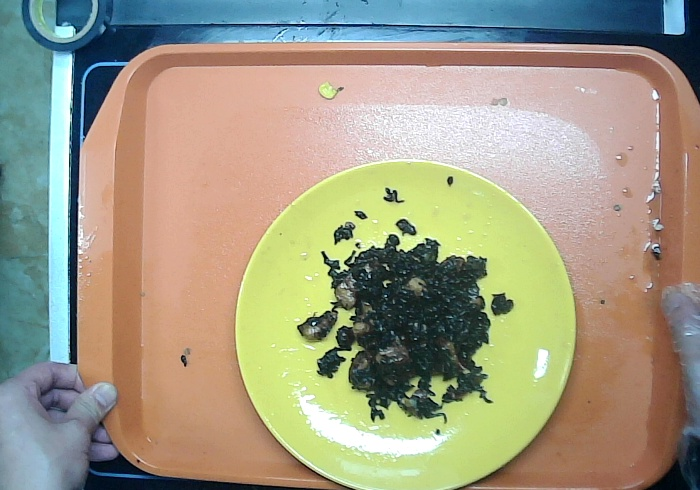HZYJPL-Huang_Se_Yuan_Pan: (227, 138, 579, 490)
